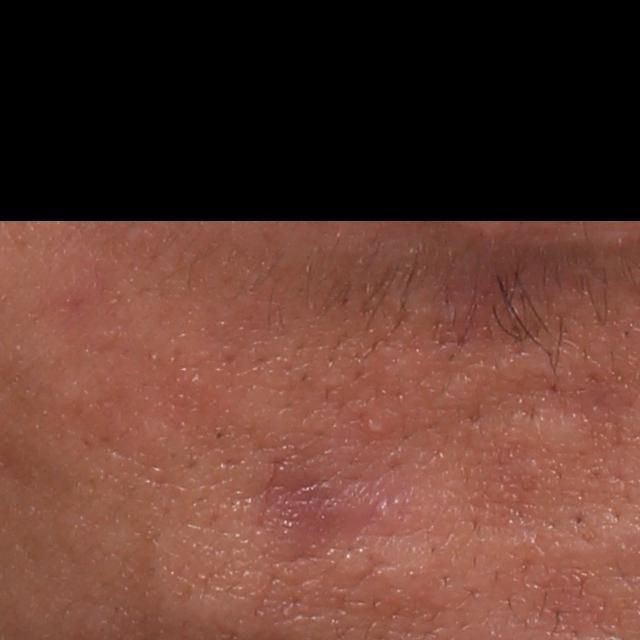hypertrophic_scar: (496, 390, 597, 455)
